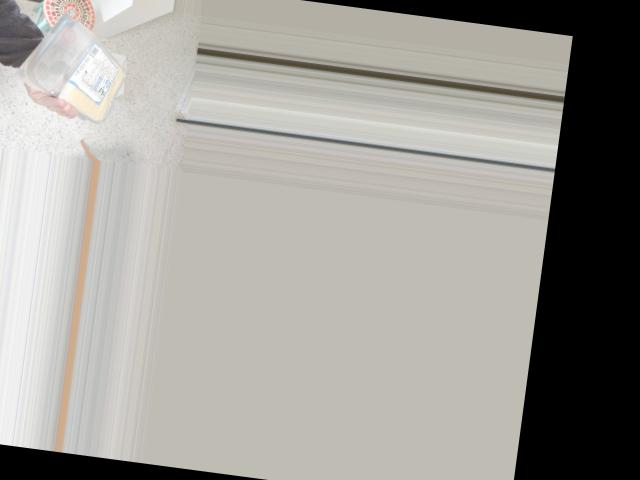cheese: (28, 9, 140, 114)
